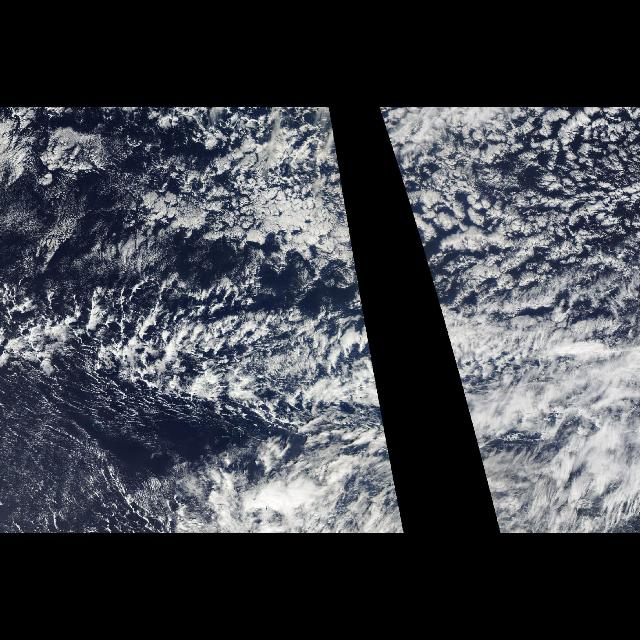Flower: (378, 107, 640, 323), (109, 107, 365, 323)
Gravel: (0, 276, 364, 428)
Sugar: (2, 374, 140, 532)
